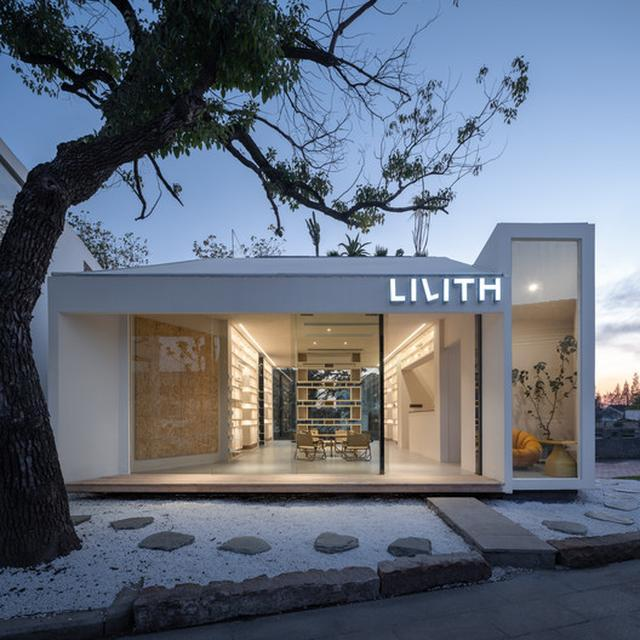building: (42, 218, 594, 497)
